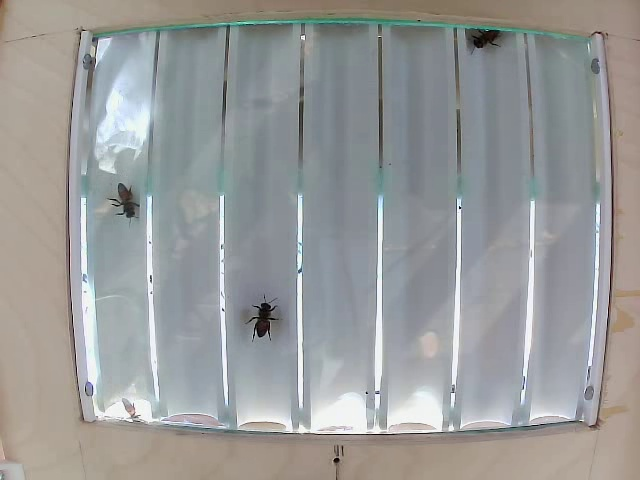bee: (238, 291, 294, 353), (107, 182, 138, 219), (470, 29, 506, 49)
